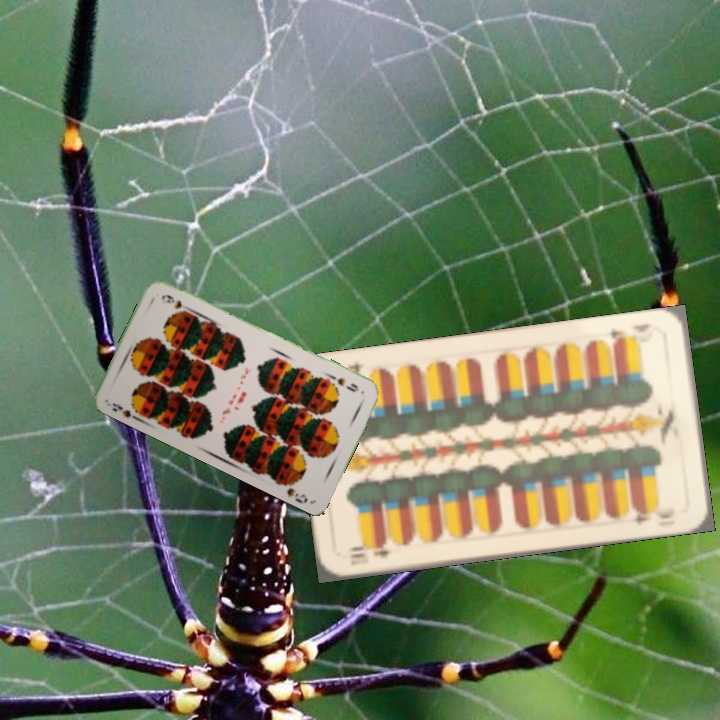E10: (606, 320, 653, 348), (346, 539, 394, 563)
S9: (108, 399, 144, 424), (326, 372, 361, 395)
